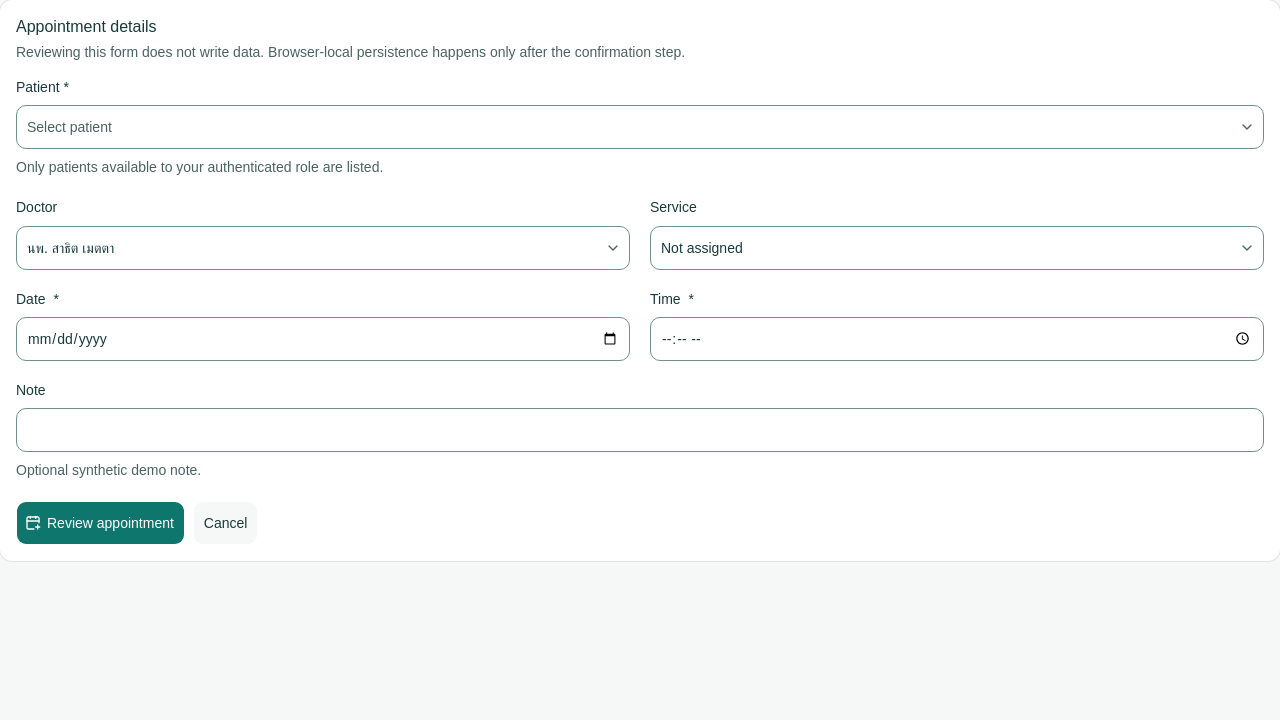
Scenario: create appointment confirmation flow › shows inline validation and never opens confirmation for invalid input
This screenshot has width=1280, height=720.
What coordinates should you click on to do the following:
click the button "Review appointment"
I would click on:
 (100, 523)
Its box is [16,501,185,545].
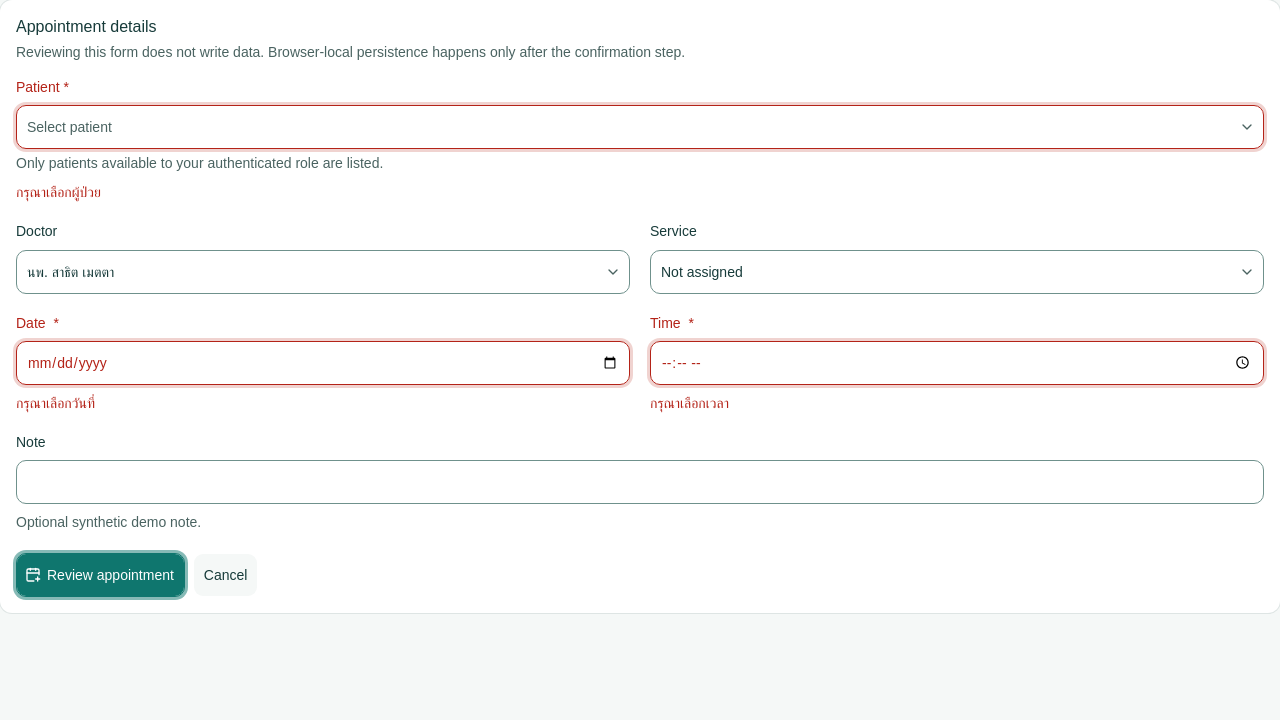
expect the text "กรุณาเลือกผู้ป่วย" is shown: met, box [16,184,101,200]
expect the text "กรุณาเลือกวันที่" is shown: met, box [16,395,95,411]
expect the text "กรุณาเลือกเวลา" is shown: met, box [650,395,729,411]
